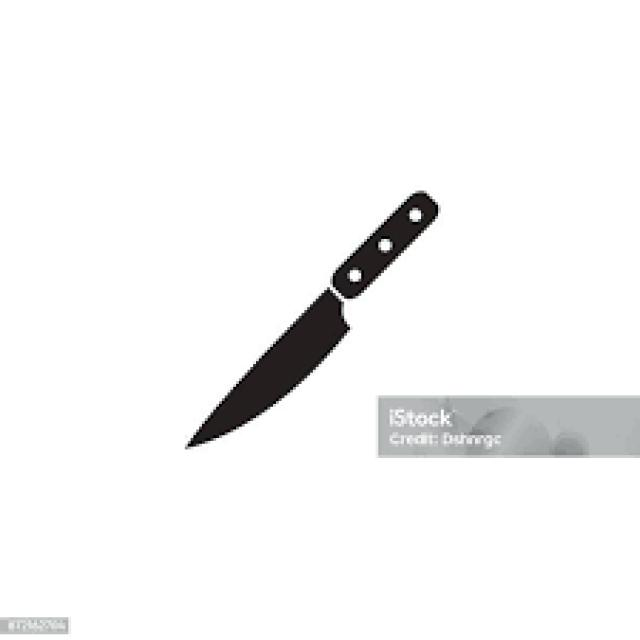Knife: (182, 188, 438, 446)
